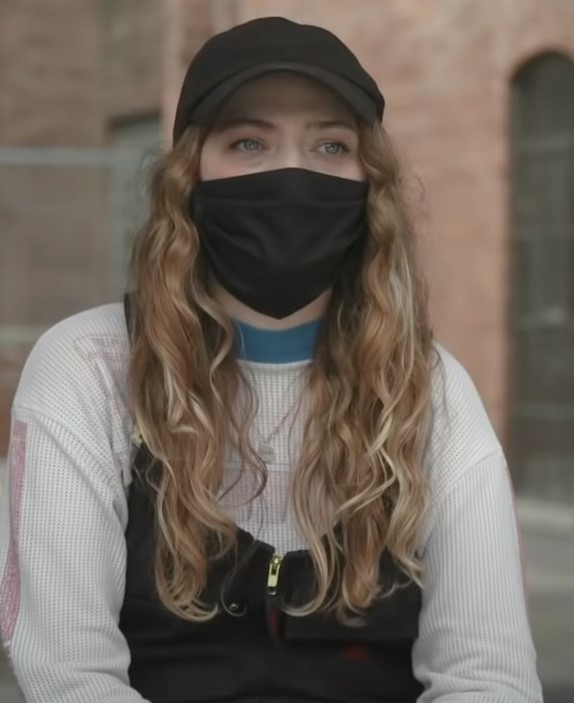face_with_mask: (181, 19, 384, 323)
